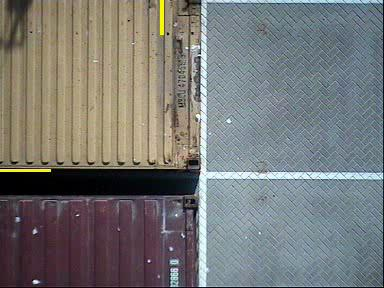groundmarker_2: (143, 17, 195, 54), (144, 137, 197, 173)
